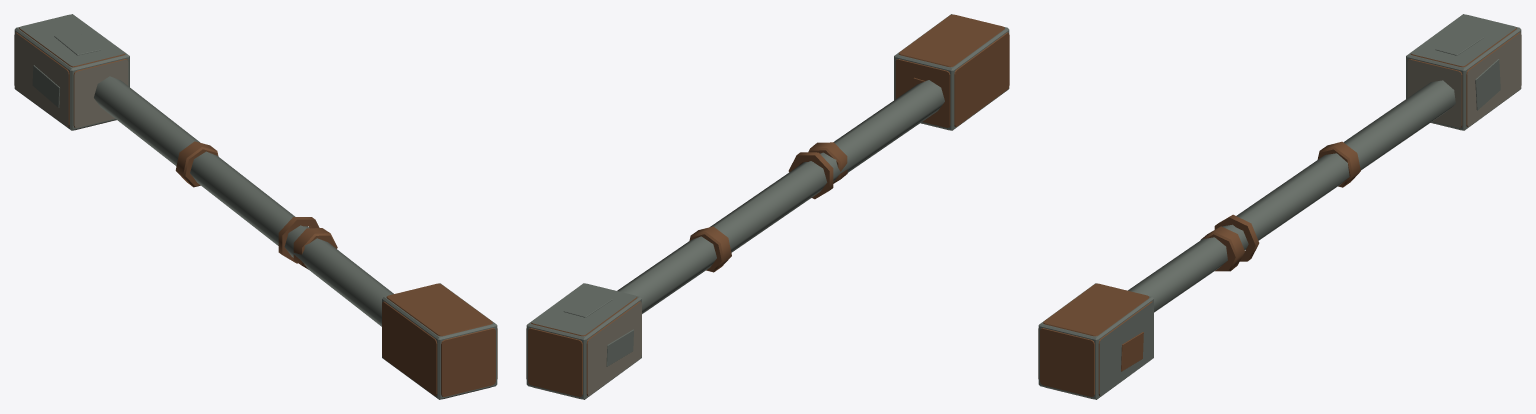
The model's file is R4C_ROD_LONG.fbx.
3 renders of one model, left to right at view 1: azimuth 30°, elevation 25°; view 2: azimuth 150°, elevation 25°; view 3: azimuth 330°, elevation 25°, orthographic.
Visible parts, largest first — view 1: R4C_ROD_LONG; view 2: R4C_ROD_LONG; view 3: R4C_ROD_LONG.
Part boxes in pixels (x1,y1,x2,y2): R4C_ROD_LONG: (14, 14, 497, 399); R4C_ROD_LONG: (526, 14, 1009, 399); R4C_ROD_LONG: (1038, 14, 1521, 399).
Size of the model in its own units: 0.232 by 0.232 by 2.72.
